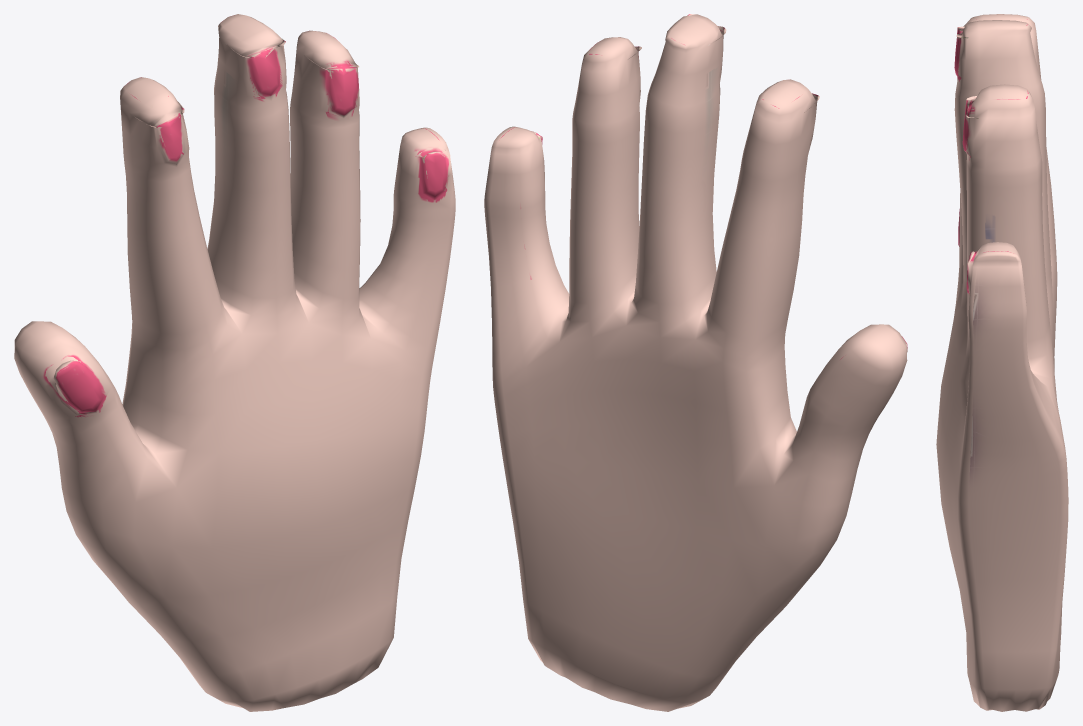
File: rightHand.fbx
3 renders of one model, left to right at view 1: azimuth 30°, elevation 25°; view 2: azimuth 150°, elevation 25°; view 3: azimuth 270°, elevation 25°, orthographic. The views are drawn at different scales.
Parts seen in each view (by area): view 1: Cube; view 2: Cube; view 3: Cube.
Part boxes in pixels (x1=…): Cube: x1=14, y1=14, x2=455, y2=711; Cube: x1=484, y1=14, x2=907, y2=711; Cube: x1=936, y1=14, x2=1068, y2=711.
Size of the model in its own units: 436 by 686 by 126.
1 material, 1 textured.
